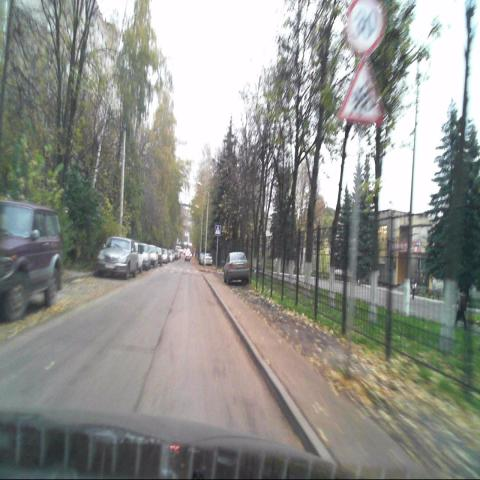1_23: (340, 58, 382, 124)
